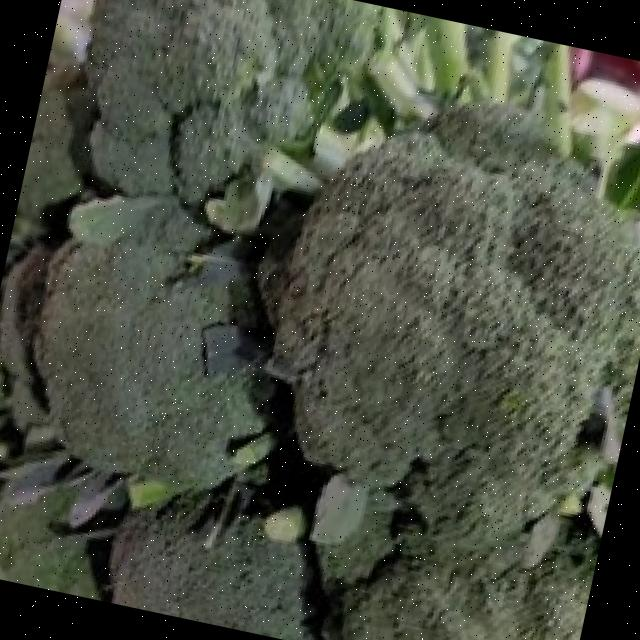Broccoli: (259, 105, 640, 542), (259, 105, 640, 541), (35, 202, 268, 487), (35, 203, 268, 487), (87, 0, 377, 205), (87, 0, 376, 205), (342, 520, 600, 640), (342, 523, 600, 640), (112, 518, 311, 640), (112, 519, 311, 640)
